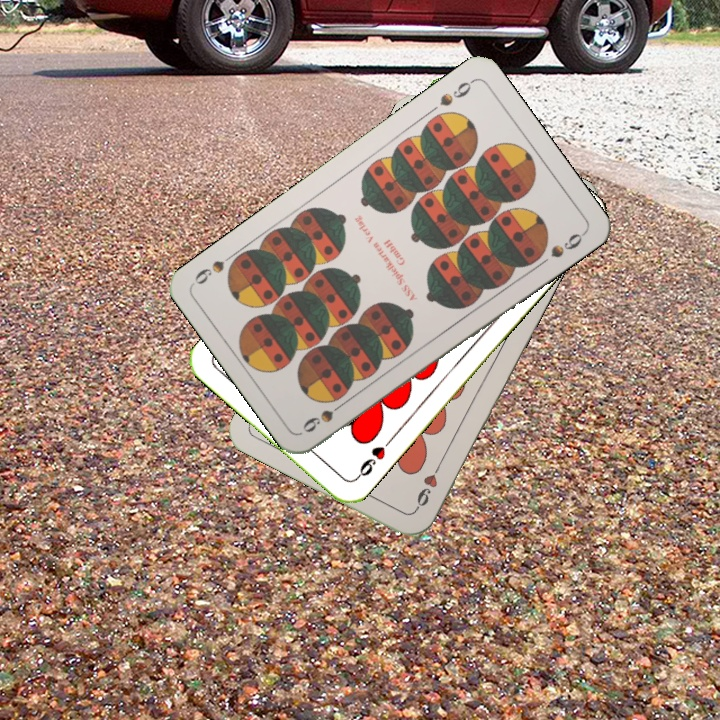H9: (351, 434, 395, 483), (410, 458, 444, 513)
S9: (298, 395, 351, 436), (435, 75, 477, 109)
